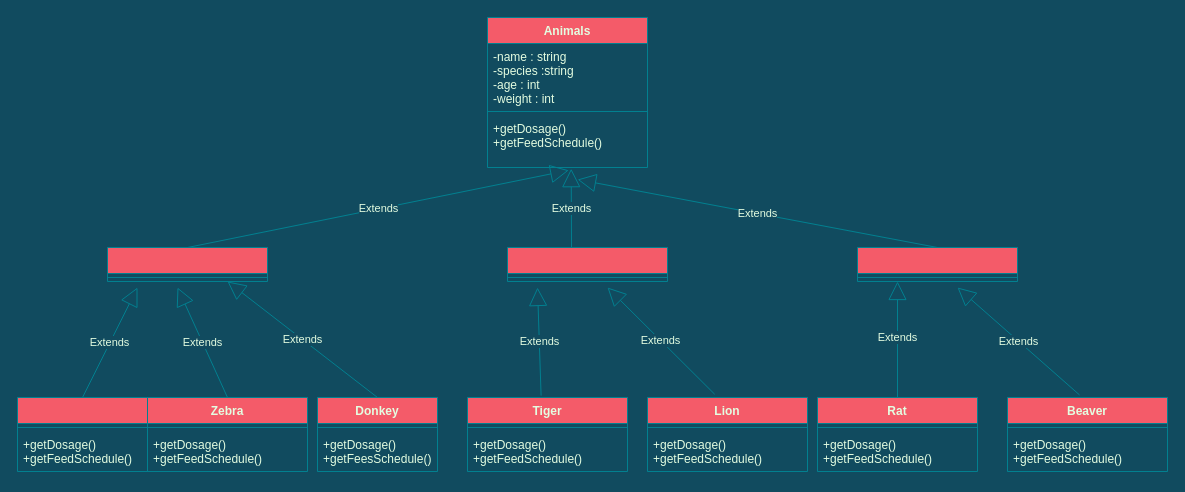
The diagram is 1185 pixels wide and 492 high, and some of its shapes have lost their labels. Here are the shapes that lost their labels. From the top down, the box of each, then its label:
(106, 246, 268, 282): Horses
(506, 246, 668, 282): Felines
(856, 246, 1018, 282): Rodents
(16, 396, 148, 472): Horse
